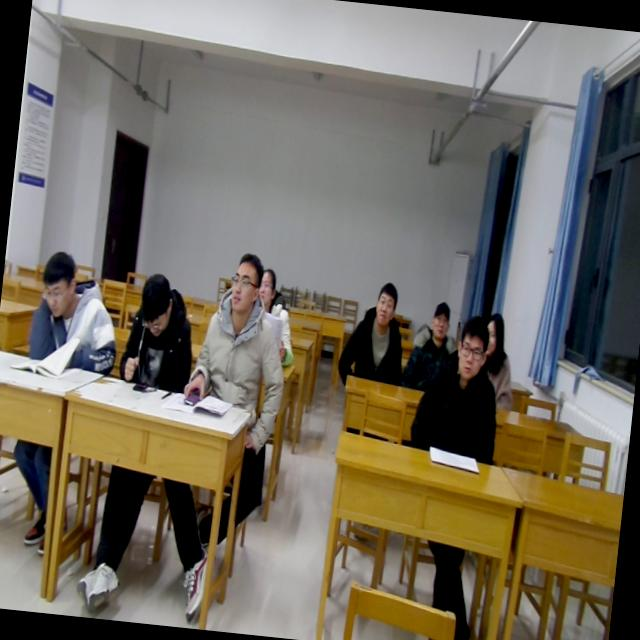bow: (24, 248, 124, 374)
down: (33, 245, 81, 325), (132, 268, 176, 341)
lookup: (222, 246, 266, 318), (450, 307, 492, 378), (369, 275, 400, 329), (424, 294, 452, 344), (481, 306, 509, 356), (255, 264, 278, 308)
sit: (180, 248, 296, 417), (408, 311, 510, 464), (115, 268, 201, 394), (336, 276, 411, 386), (248, 261, 306, 371), (402, 296, 464, 396), (472, 306, 521, 410)
